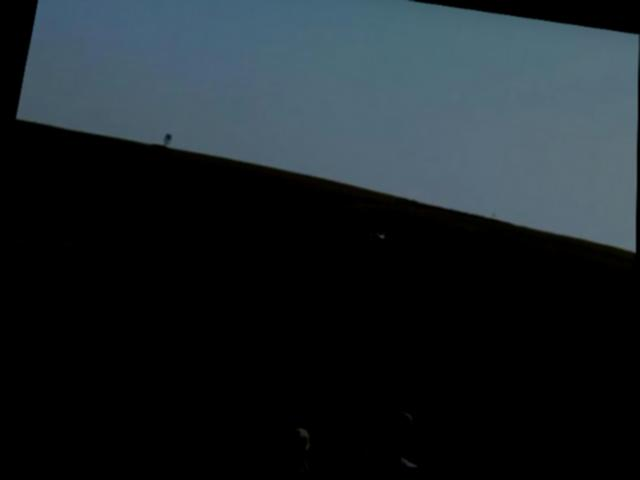iha: (358, 223, 398, 251)
